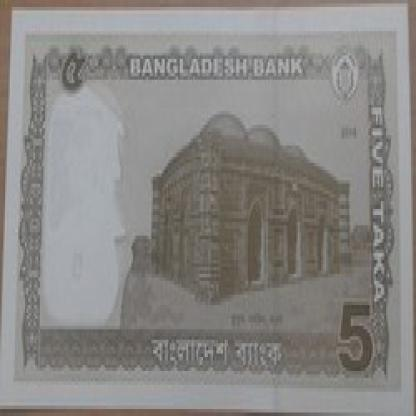Five Taka: (361, 90, 396, 302), (336, 284, 376, 385), (57, 42, 88, 104)
